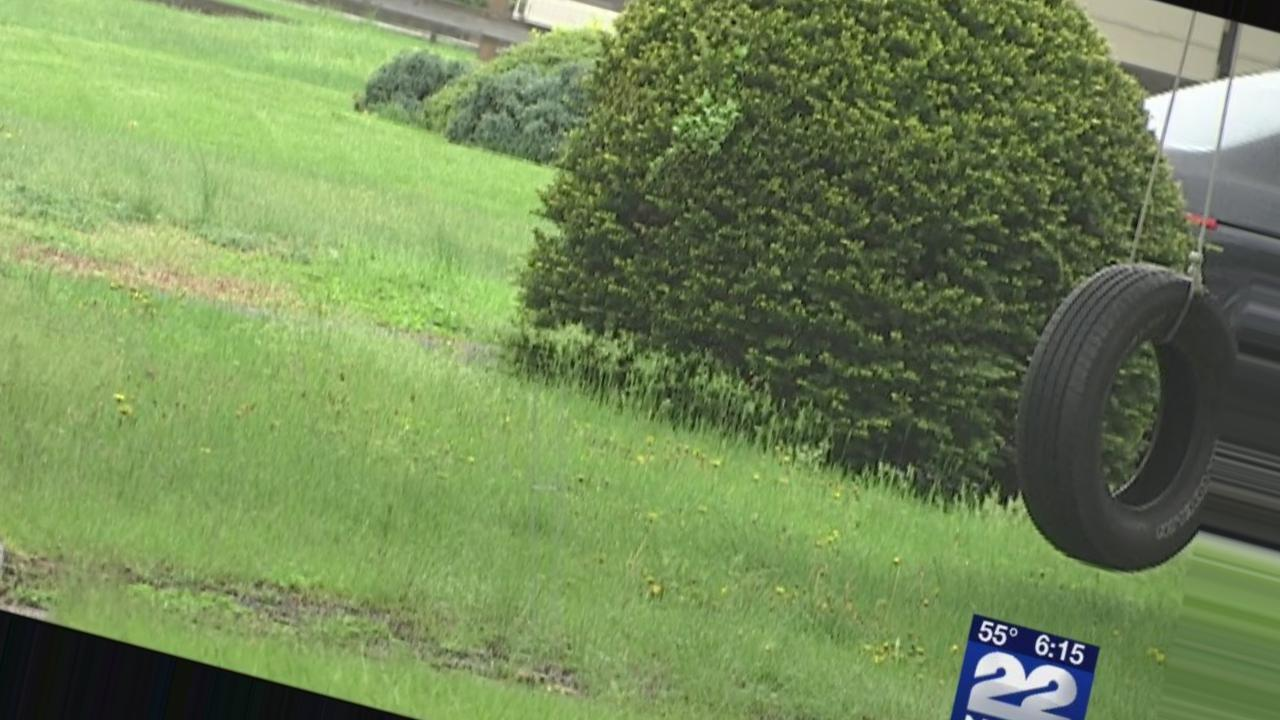patch: (149, 275, 196, 293), (211, 285, 235, 302), (106, 268, 130, 282), (247, 292, 270, 302)
